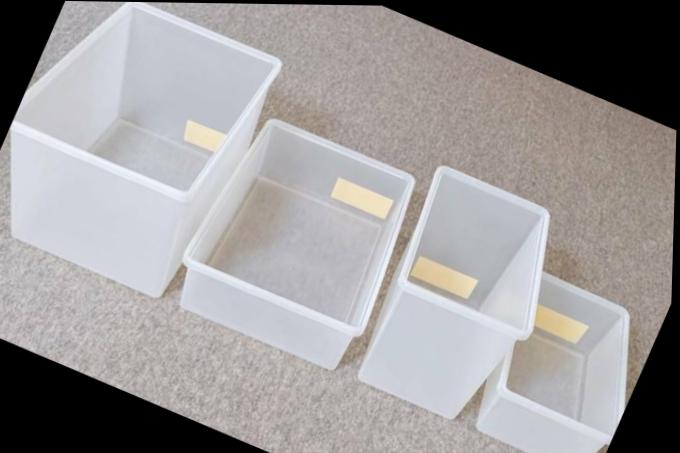plastic: (10, 4, 280, 296), (182, 120, 413, 369), (359, 167, 549, 418), (478, 274, 628, 452)
